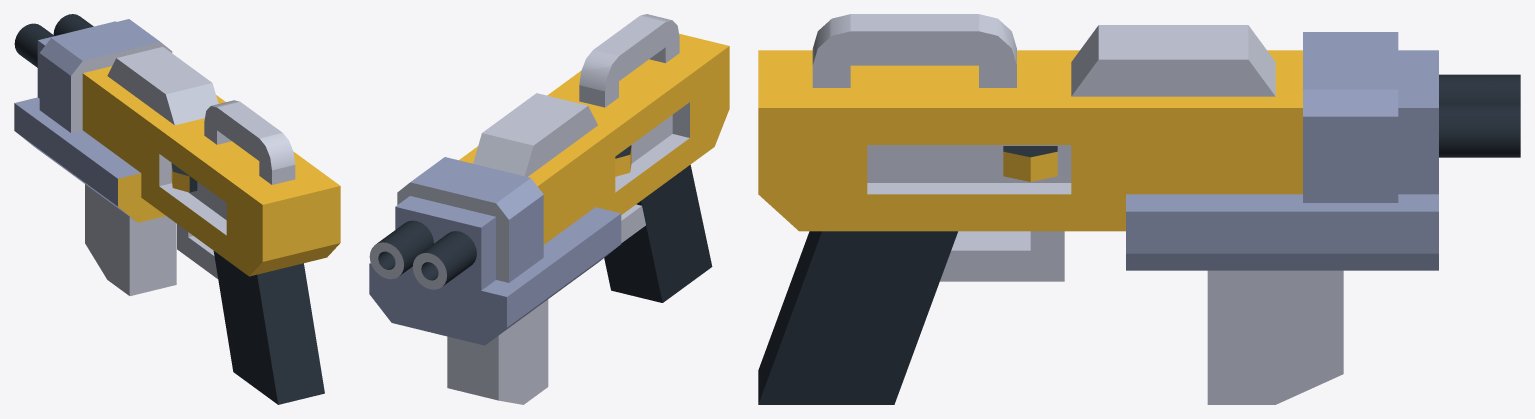
File: blasterJ.dae
3 views of the same model, side by side, from view 1: azimuth 30°, elevation 25°; view 2: azimuth 150°, elevation 25°; view 3: azimuth 270°, elevation 25° (orthographic). The views are drawn at different scales.
Parts seen in each view (by area): view 1: blasterJ; view 2: blasterJ; view 3: blasterJ.
Part boxes in pixels (left/top/right/bottom): blasterJ: left=14, top=14, right=340, bottom=404; blasterJ: left=369, top=14, right=729, bottom=404; blasterJ: left=758, top=14, right=1520, bottom=404.
Size of the model in its own units: 0.16 by 0.2959 by 0.56.
